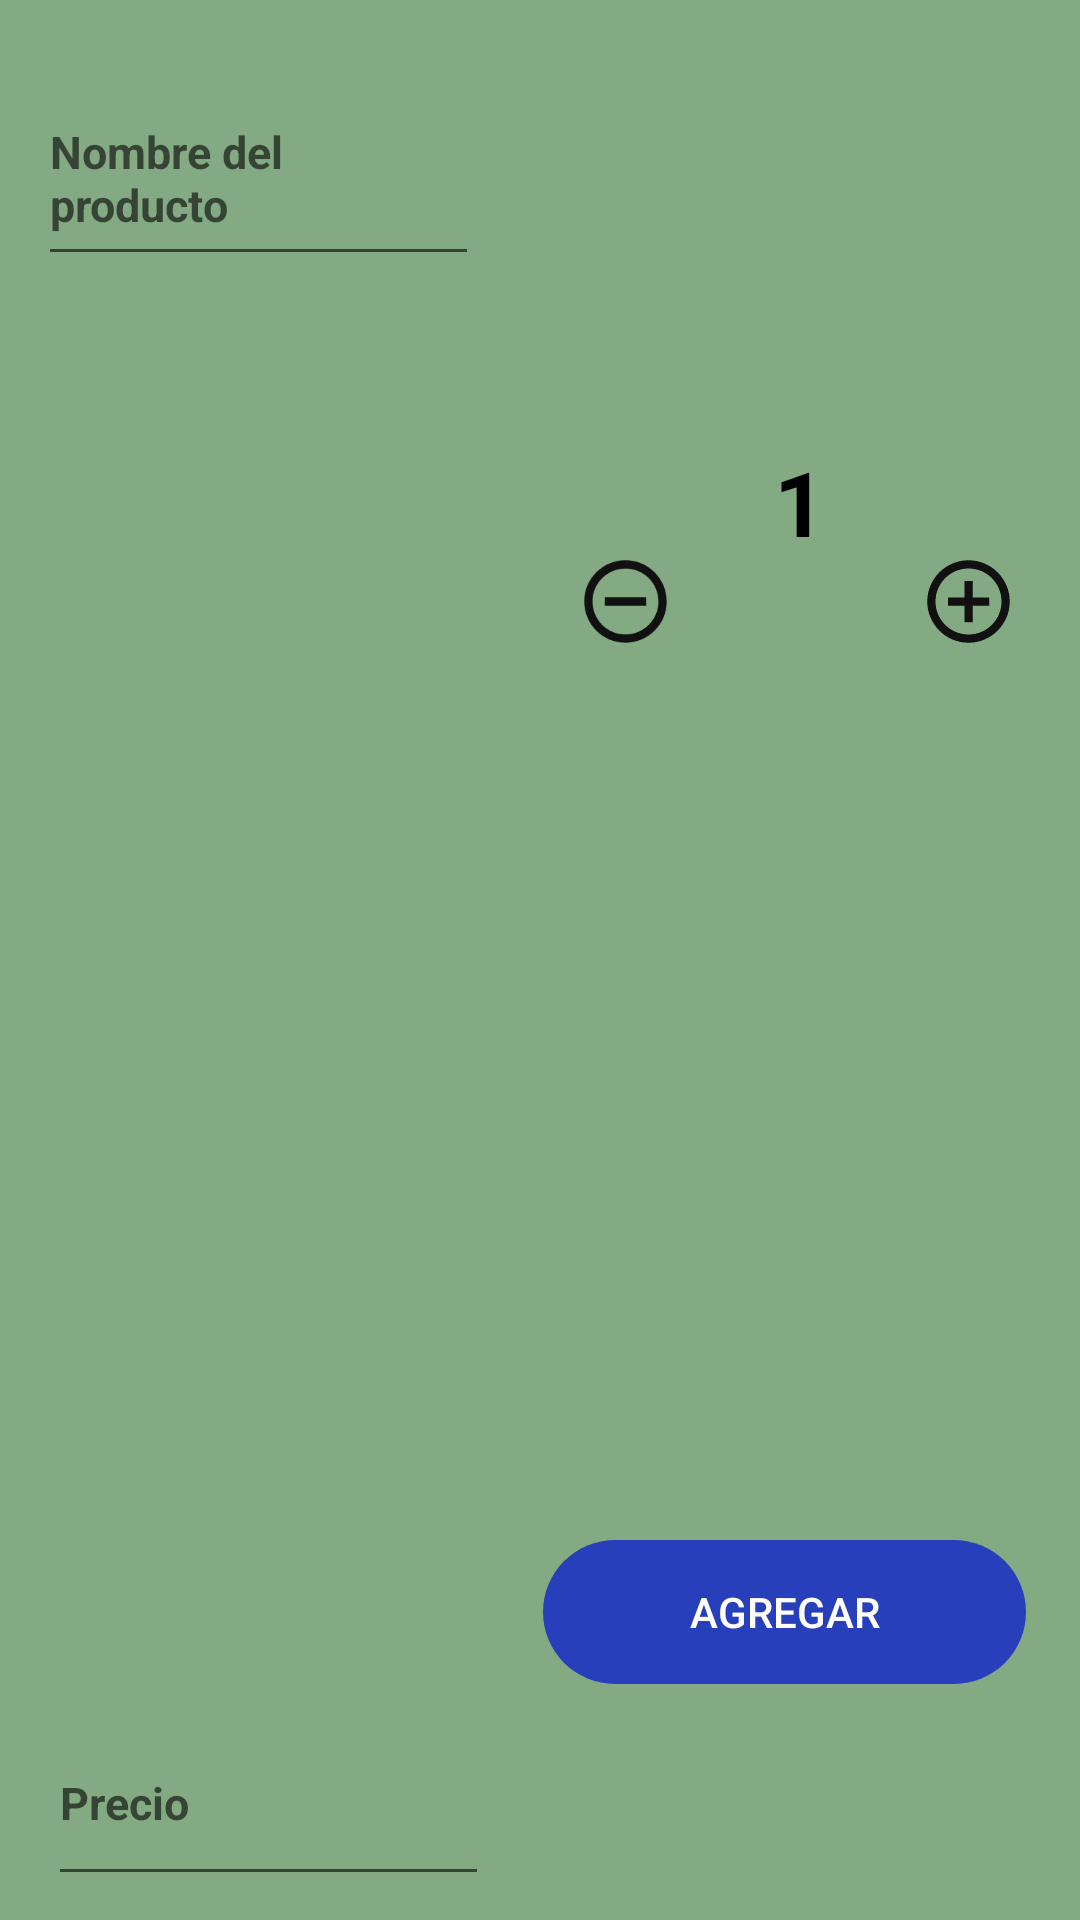

Screen size 1080×1920. Icon name, then its box in pixels as (x1, y1, x2, y2):
plus: (927, 560, 1010, 643)
remove circle: (584, 560, 667, 643)
